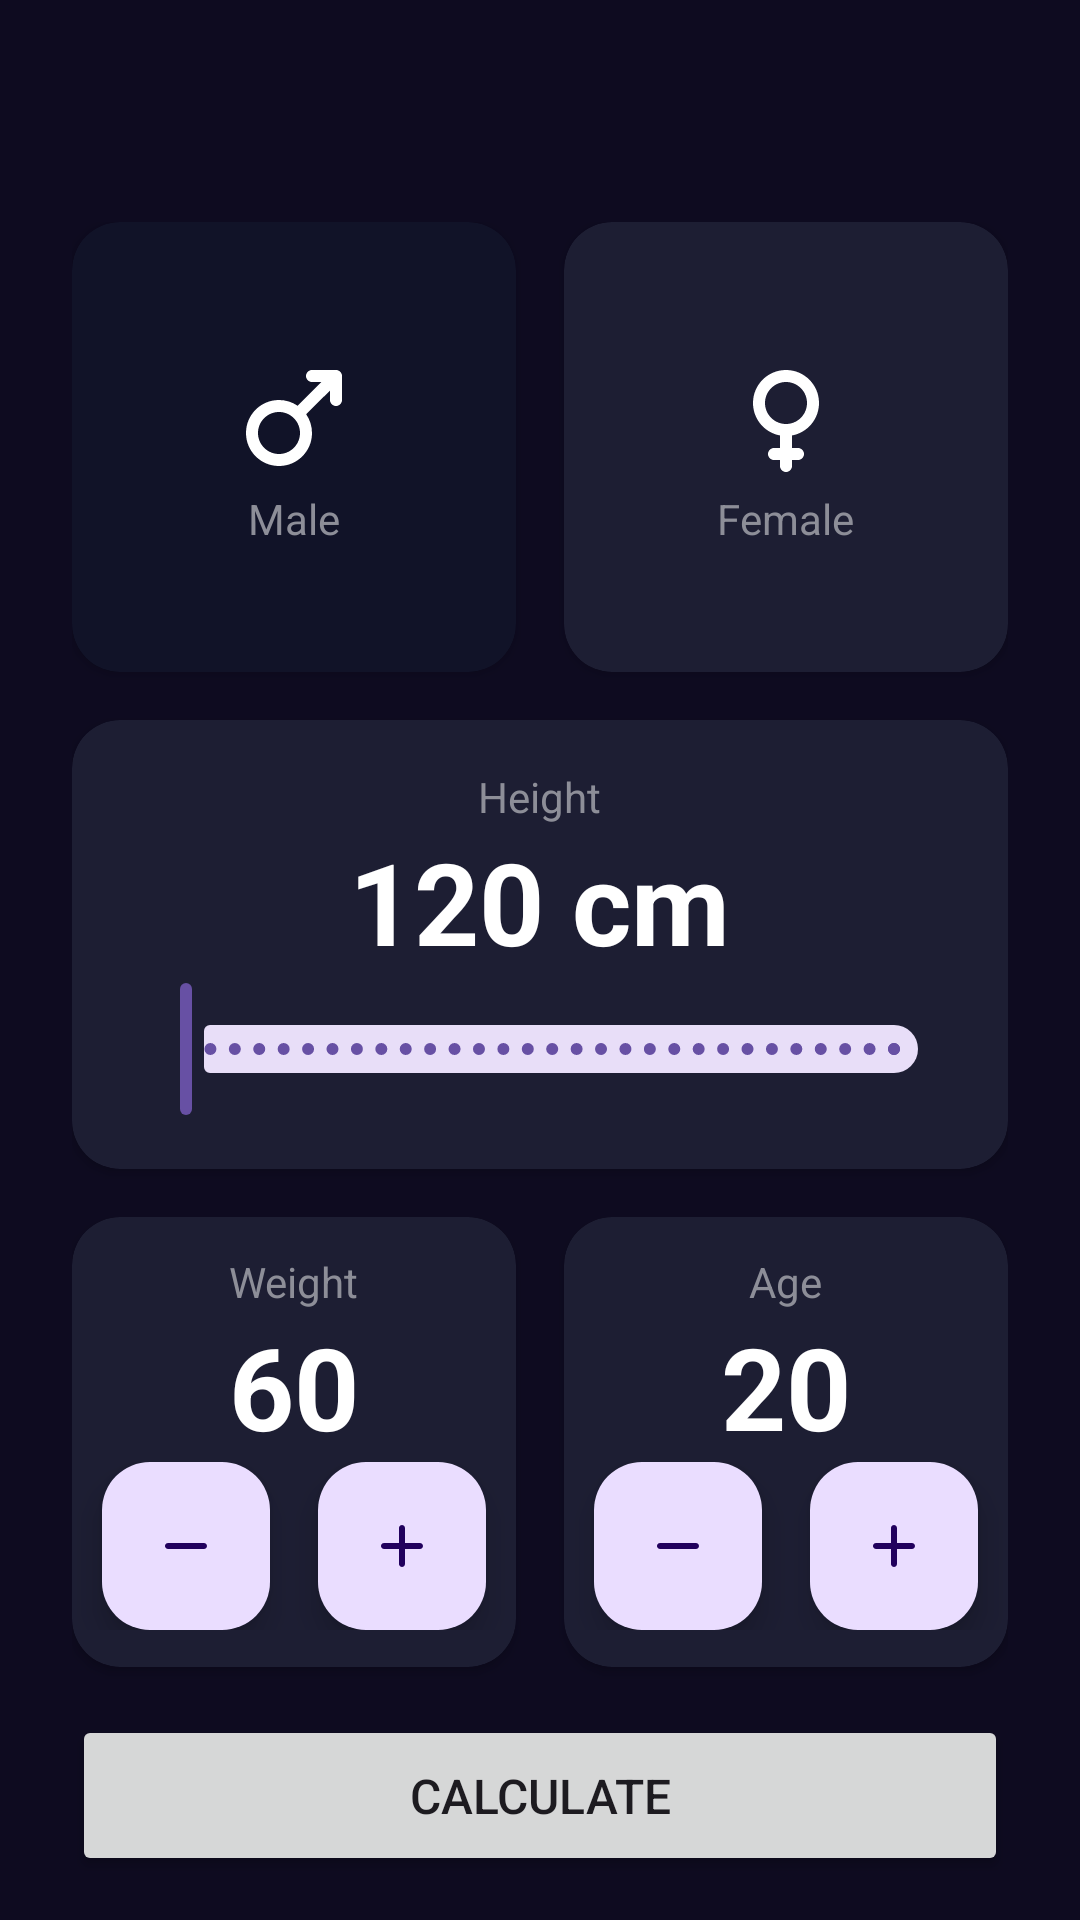

Locate icon controls on the screen. Image size 1080×1920, boxes as (x1, y1, x2, y2).
plus: (318, 1462, 486, 1630), (810, 1462, 978, 1630)
subtract: (102, 1462, 270, 1630), (594, 1462, 762, 1630)
